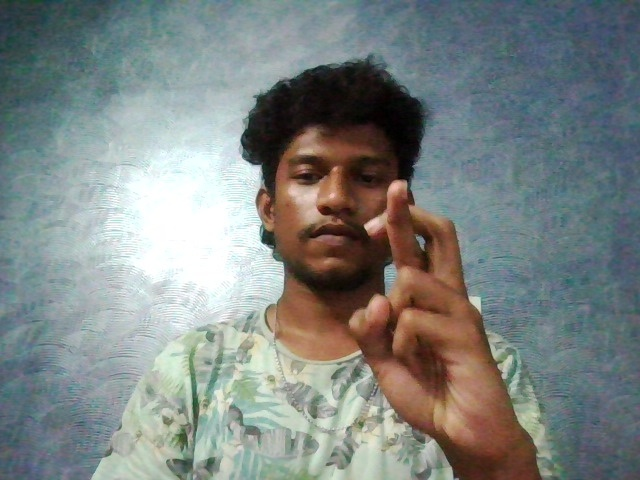hope: (334, 175, 549, 463)
